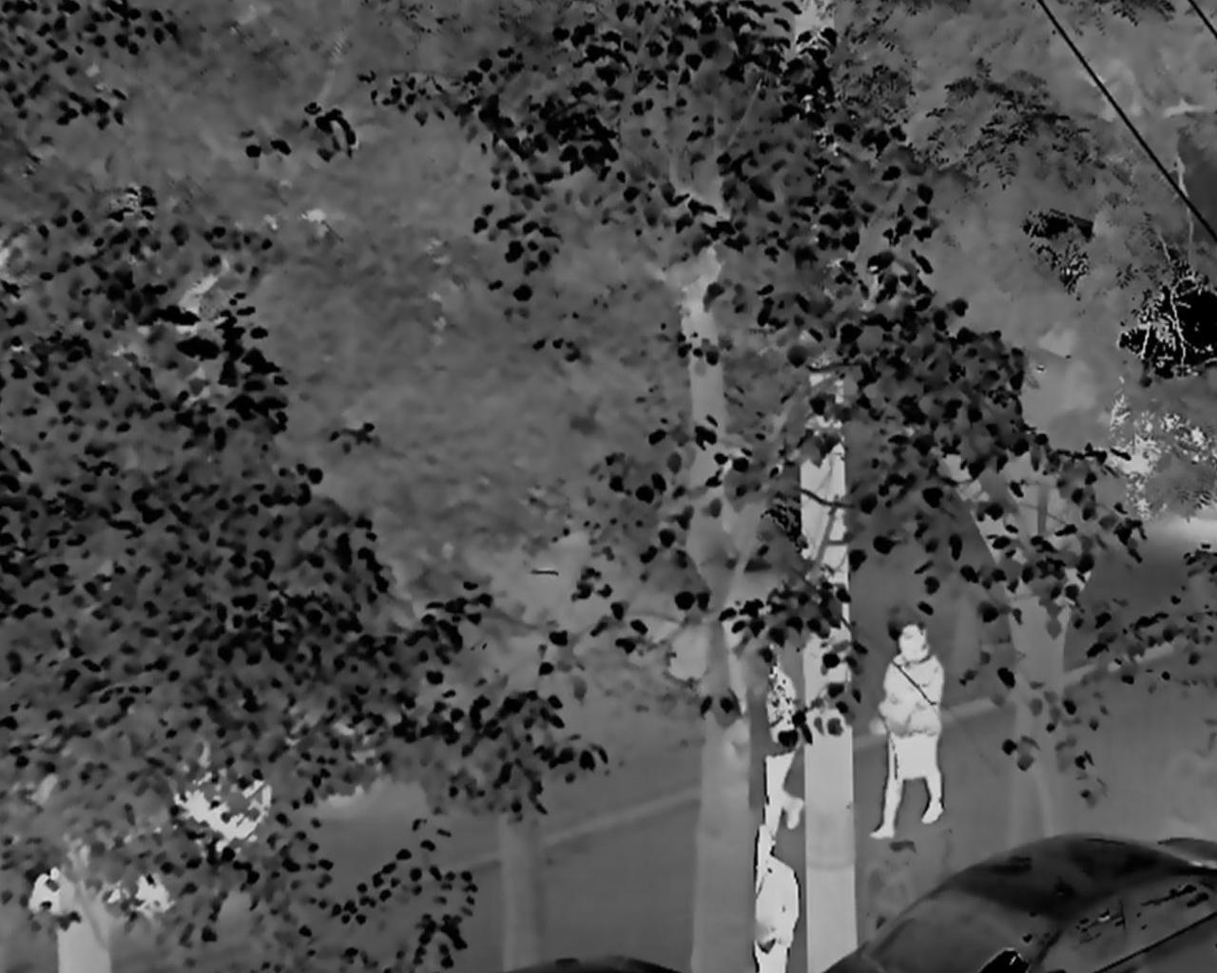person: (873, 620, 947, 847), (747, 823, 800, 973)
